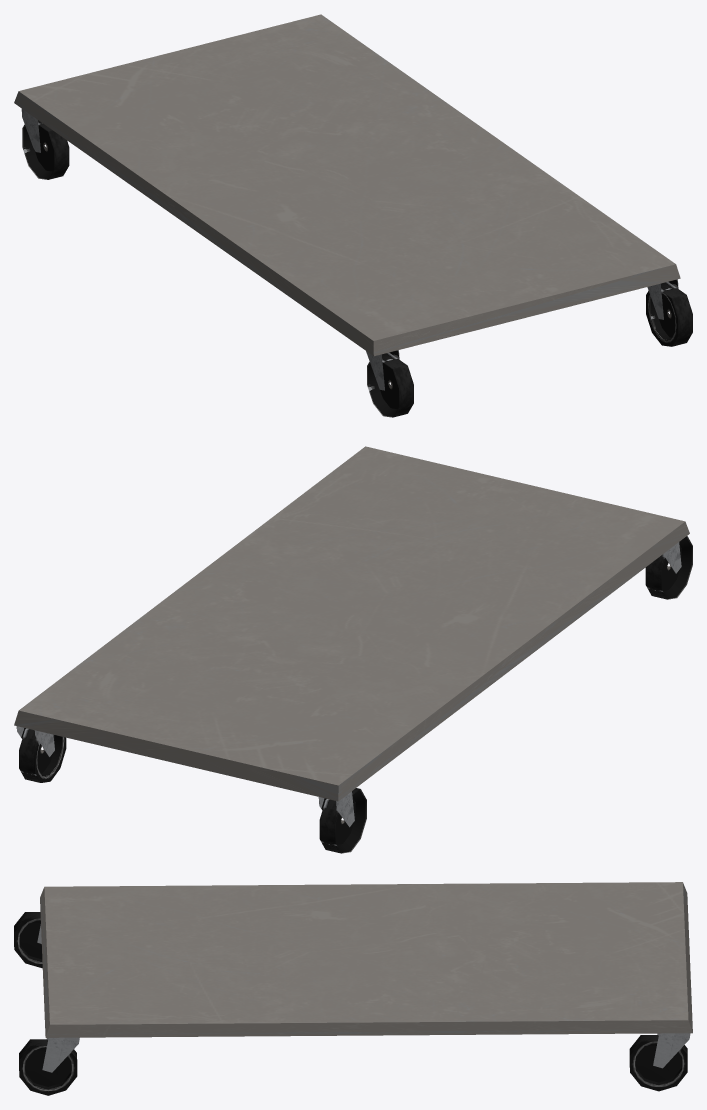
The model's file is trolley.fbx.
The picture shows the model from 3 angles, top to bottom: view 1: azimuth 30°, elevation 25°; view 2: azimuth 150°, elevation 25°; view 3: azimuth 270°, elevation 25°; orthographic projection. The views are drawn at different scales.
Parts seen in each view (by area): view 1: trolley1; view 2: trolley1; view 3: trolley1.
Part boxes in pixels (left/top/right/bottom): trolley1: left=14, top=14, right=692, bottom=417; trolley1: left=14, top=446, right=692, bottom=853; trolley1: left=14, top=882, right=692, bottom=1095.
Bounding box in the file's own units: 178 × 40.9 × 354.
Materials: 1 (1 with a texture image).
